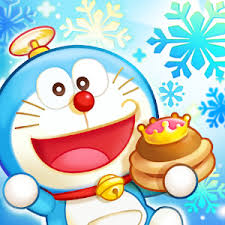doraemon: (1, 43, 200, 225)
